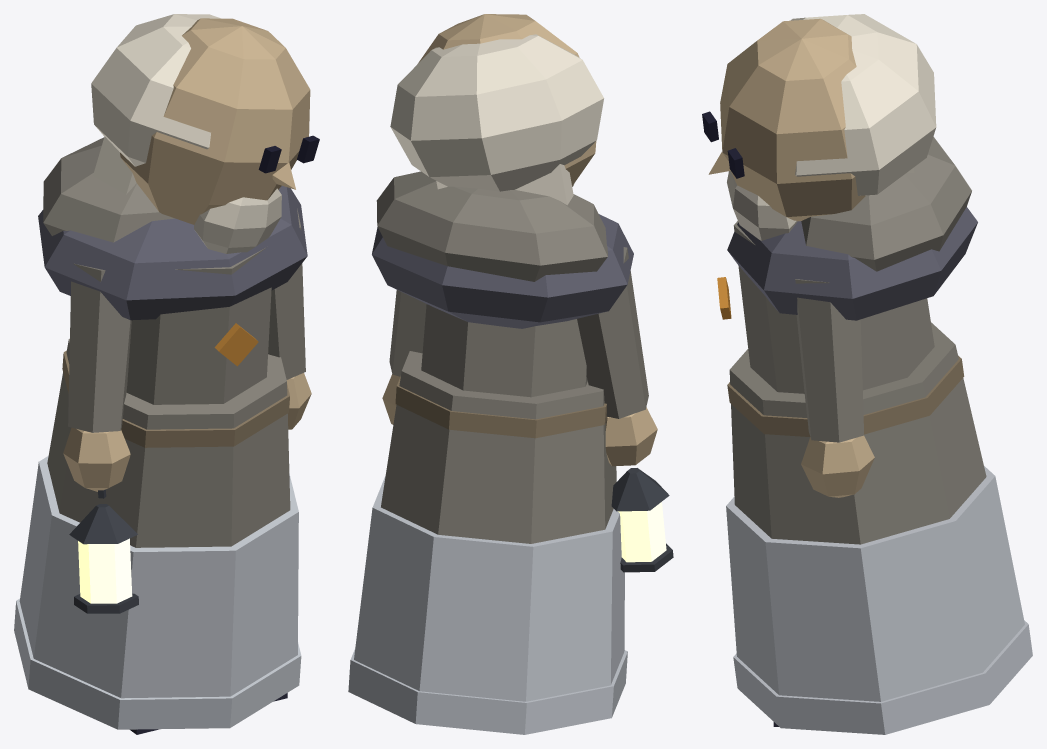
Rendered from iver.glb.
3 views of the same model, side by side, from view 1: azimuth 30°, elevation 25°; view 2: azimuth 150°, elevation 25°; view 3: azimuth 270°, elevation 25° (orthographic). The views are drawn at different scales.
Visible parts, largest first — view 1: Torso, Head, ArmR, ArmL; view 2: Torso, Head, ArmR, ArmL; view 3: Torso, Head, ArmL.
Boxes of the visible parts, left/top/right/bottom form: Torso: left=14, top=137, right=307, bottom=729; Head: left=91, top=14, right=319, bottom=253; ArmR: left=63, top=263, right=138, bottom=613; ArmL: left=268, top=208, right=311, bottom=429; Torso: left=348, top=171, right=633, bottom=734; Head: left=390, top=14, right=604, bottom=205; ArmR: left=577, top=247, right=673, bottom=572; ArmL: left=382, top=290, right=426, bottom=424; Torso: left=717, top=136, right=1032, bottom=734; Head: left=702, top=14, right=936, bottom=240; ArmL: left=795, top=279, right=874, bottom=497.
Size of the model in its own units: 0.6793 by 1.68 by 0.7485.
